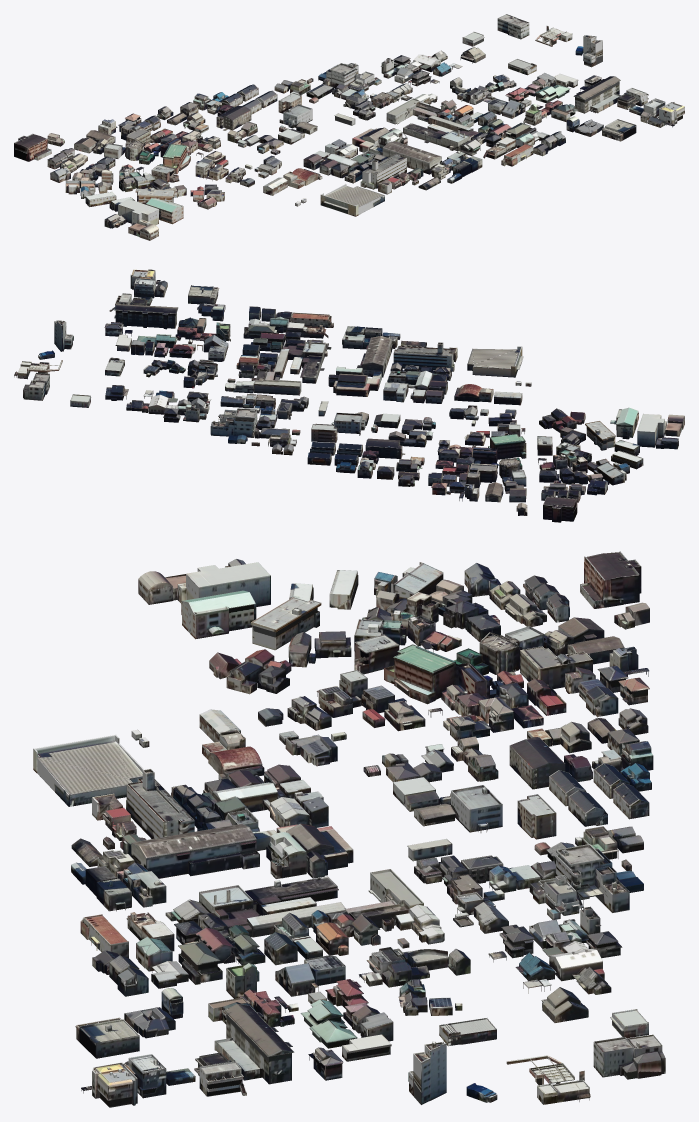
File: 2023-lod3-station-2-2-packed.glb
3 renders of one model, top to bottom at view 1: azimuth 30°, elevation 25°; view 2: azimuth 150°, elevation 25°; view 3: azimuth 270°, elevation 25°, orthographic. The views are drawn at different scales.
Bounding box in the file's own units: 495 × 23.65 × 248.
5 materials, 4 textured.
